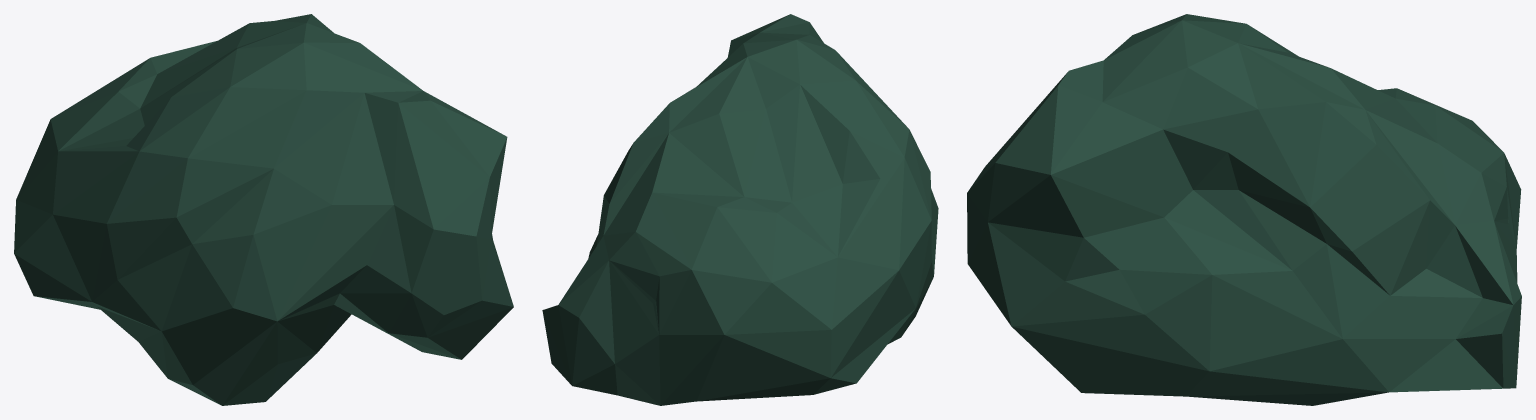
File: SM_large_rock_14.fbx
The picture shows the model from 3 angles, left to right: view 1: azimuth 30°, elevation 25°; view 2: azimuth 150°, elevation 25°; view 3: azimuth 270°, elevation 25°; orthographic projection. The views are drawn at different scales.
Parts seen in each view (by area): view 1: large_rock_14; view 2: large_rock_14; view 3: large_rock_14.
Boxes of the visible parts, x1=… form: large_rock_14: x1=14, y1=14, x2=513, y2=405; large_rock_14: x1=542, y1=14, x2=938, y2=405; large_rock_14: x1=967, y1=14, x2=1521, y2=405.
Bounding box in the file's own units: 78.33 × 74.09 × 100.
